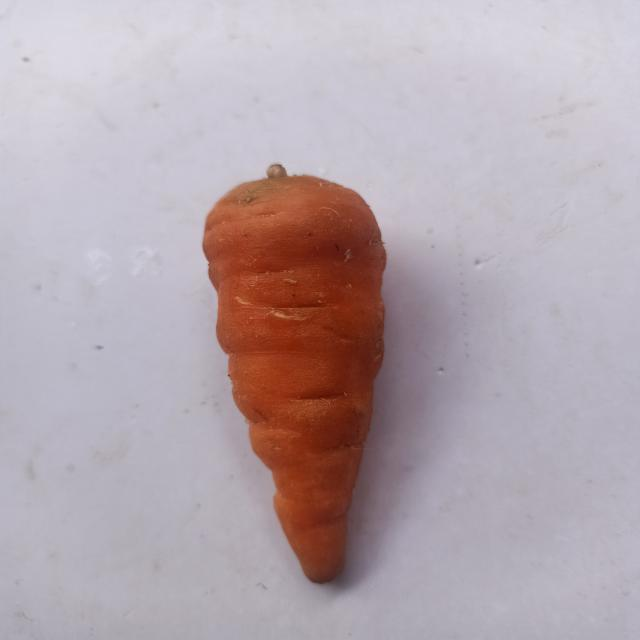Carrot: (188, 146, 428, 594)
